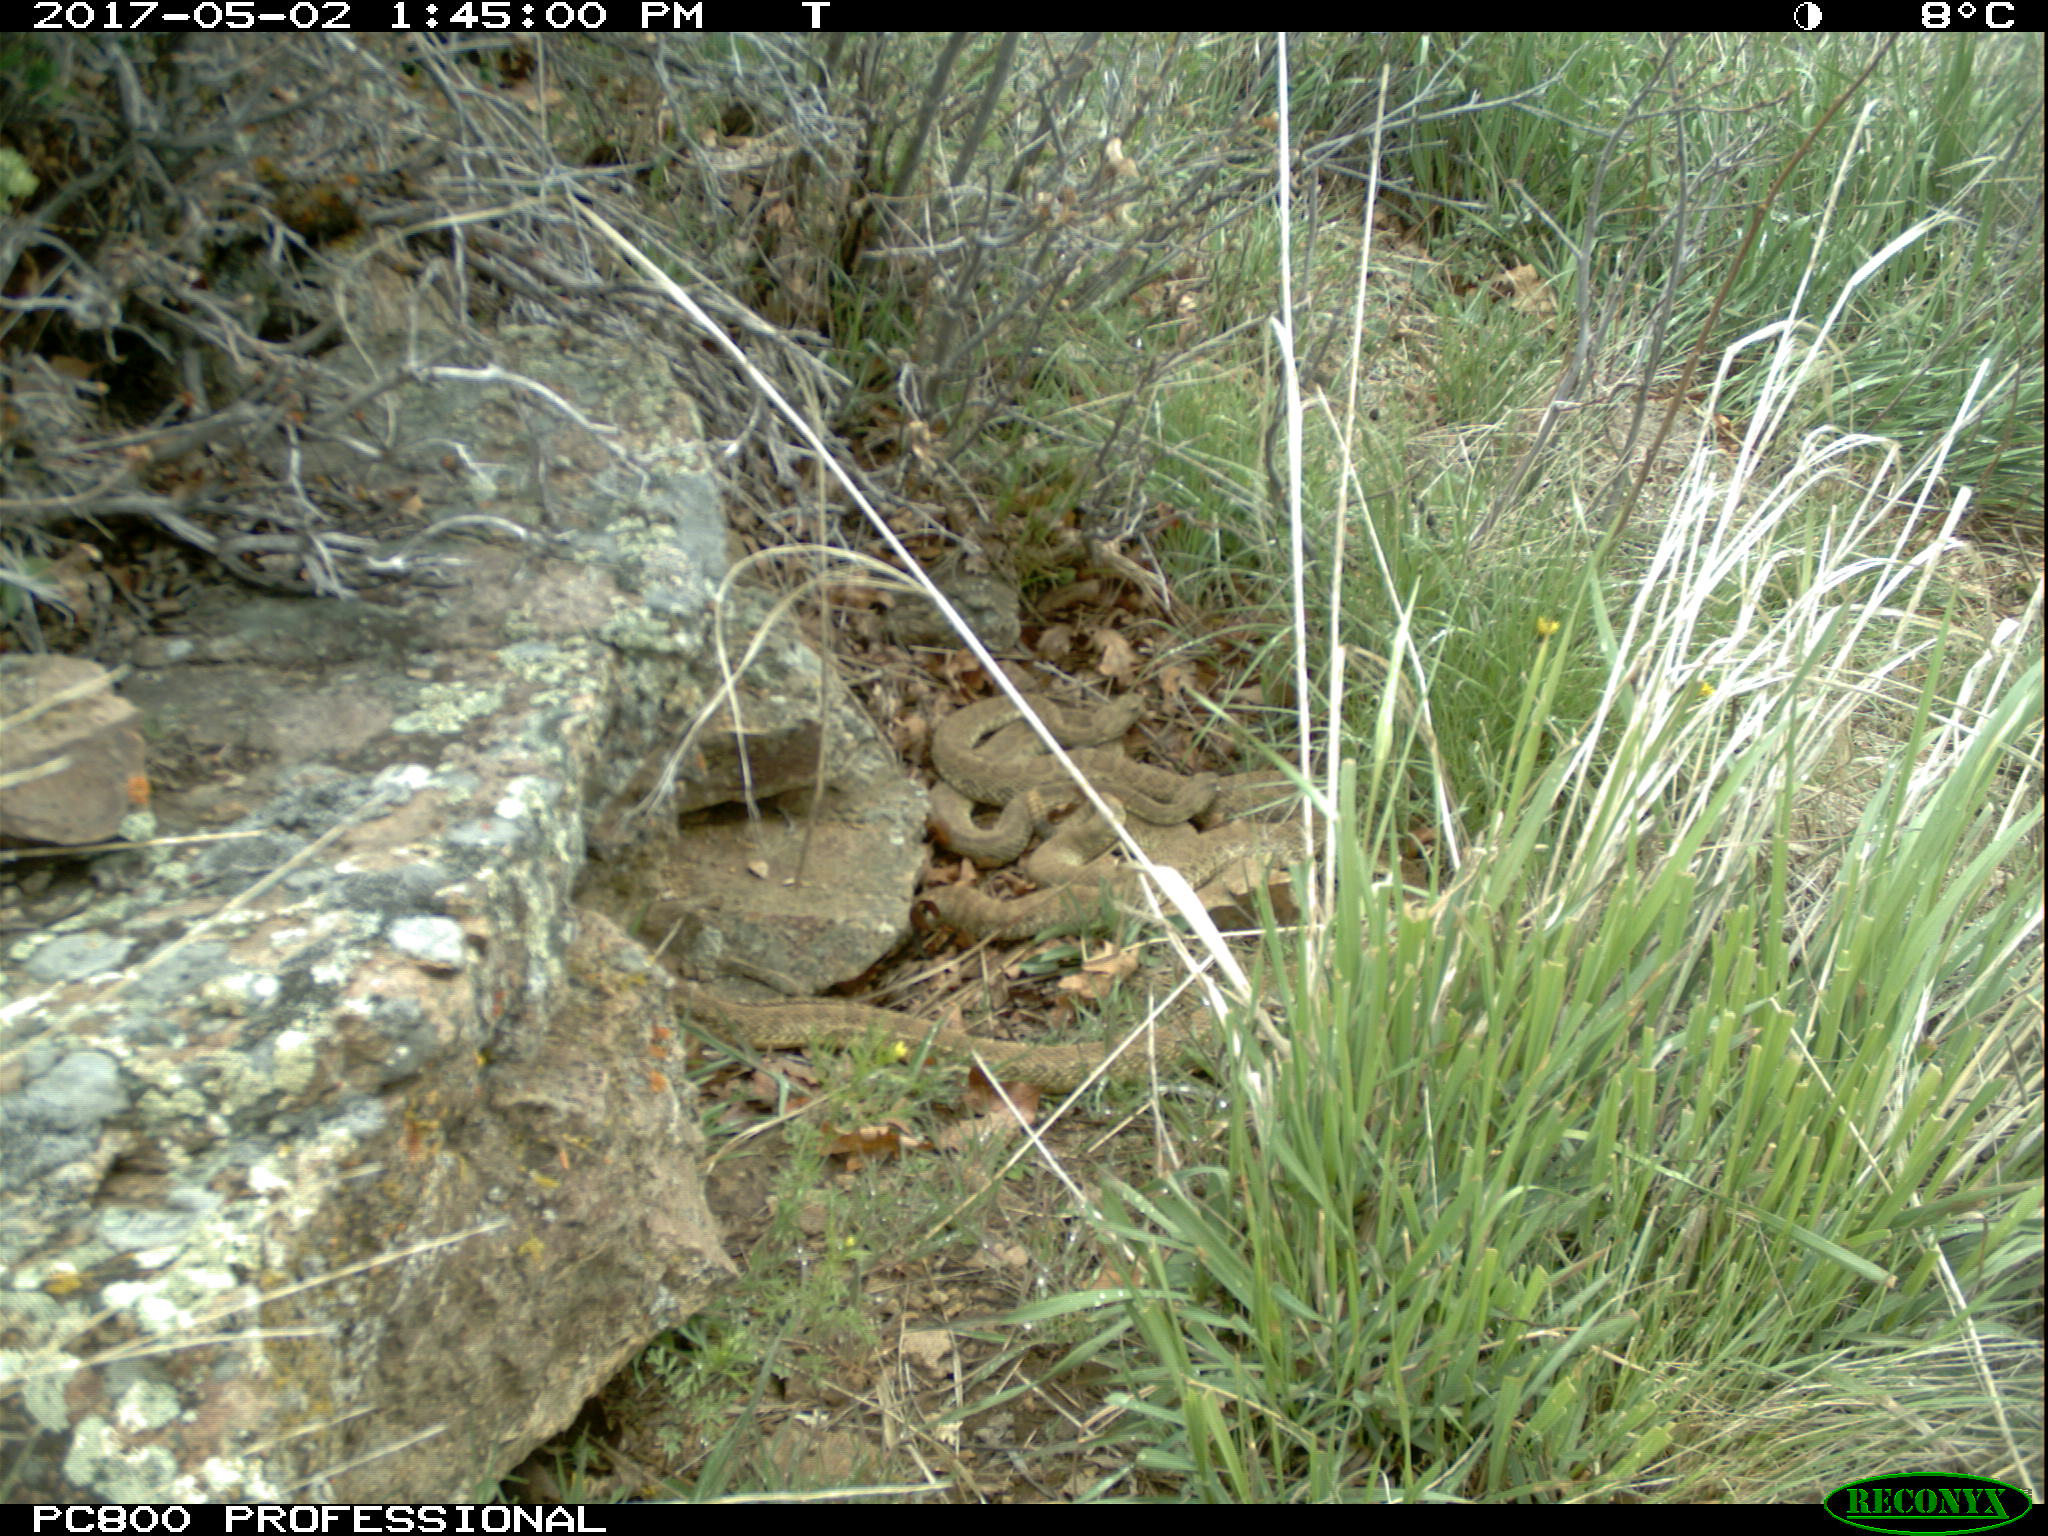snake: (664, 976, 1234, 1096), (930, 687, 1237, 858), (922, 852, 1238, 933)
